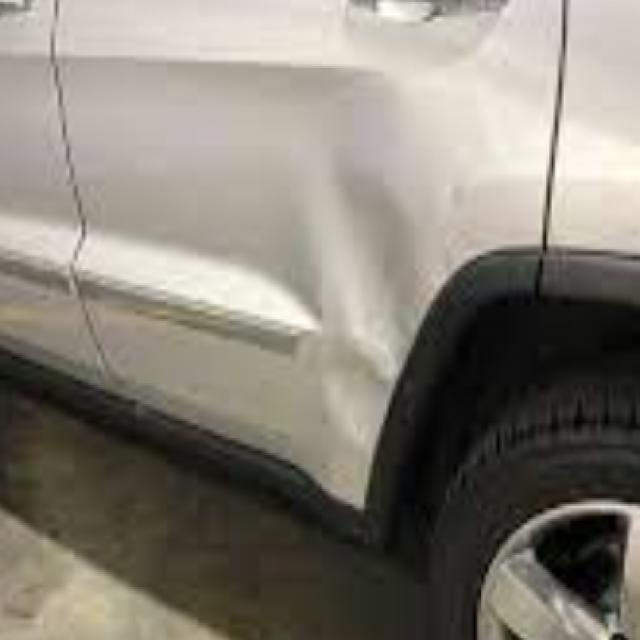dents: (320, 158, 413, 391)
